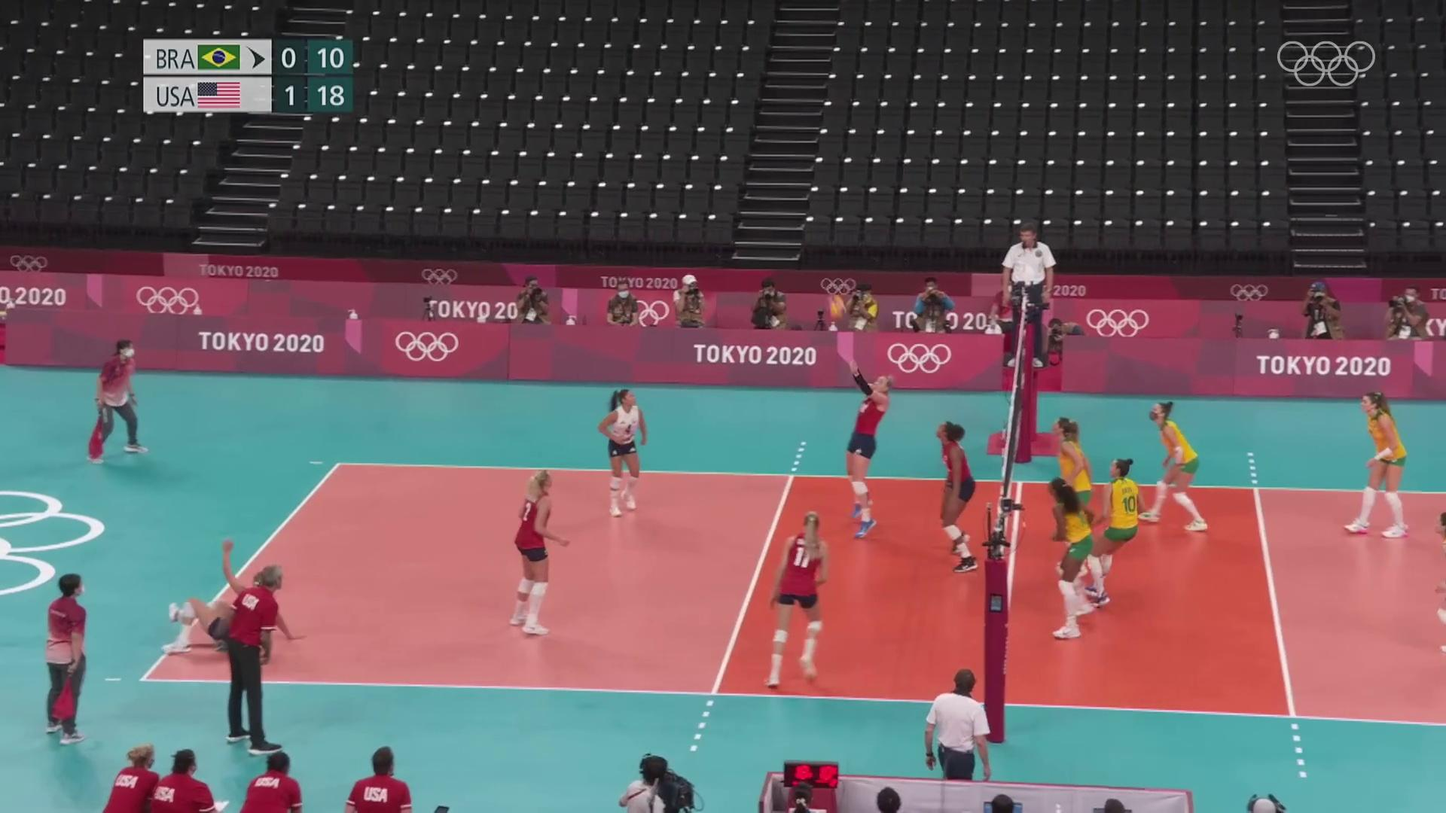player: (156, 538, 307, 655), (760, 511, 832, 689), (1345, 392, 1414, 537), (506, 472, 564, 636), (1089, 458, 1150, 605), (843, 372, 897, 538), (1044, 477, 1098, 638), (1144, 399, 1208, 531), (932, 420, 983, 573), (1048, 417, 1093, 582), (595, 388, 651, 519)
refree: (923, 666, 995, 794), (42, 574, 96, 744), (1001, 226, 1059, 367), (87, 343, 146, 460)
